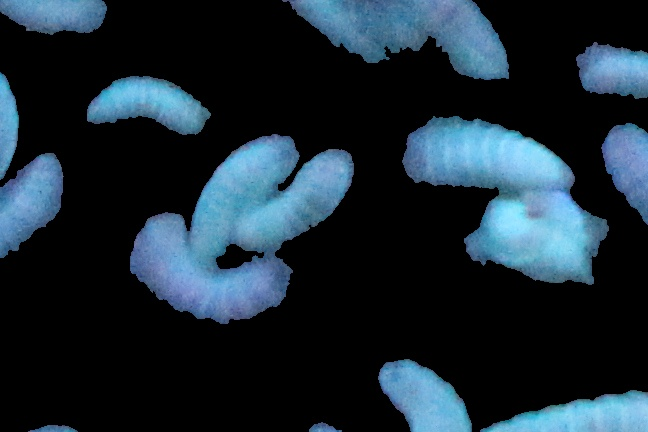larvae: (124, 207, 306, 343), (401, 109, 587, 197), (191, 132, 304, 262), (362, 1, 520, 93), (260, 1, 410, 84), (235, 147, 358, 247), (83, 70, 214, 147), (1, 153, 70, 278), (565, 34, 648, 111), (598, 114, 648, 229), (1, 1, 118, 45)
